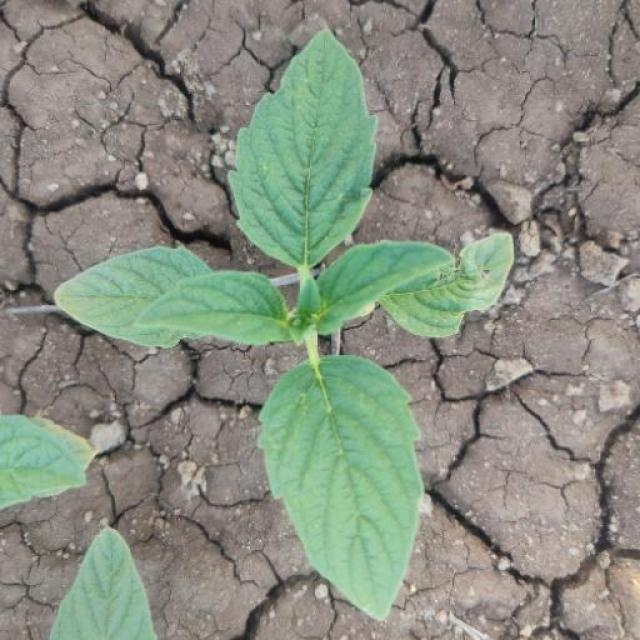crop: (49, 19, 522, 625)
